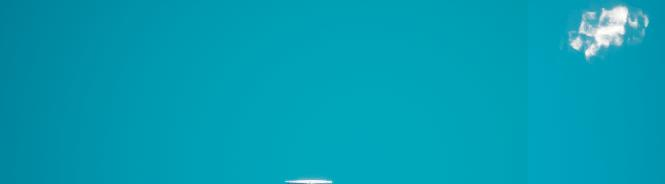land_base: (556, 1, 655, 71)
